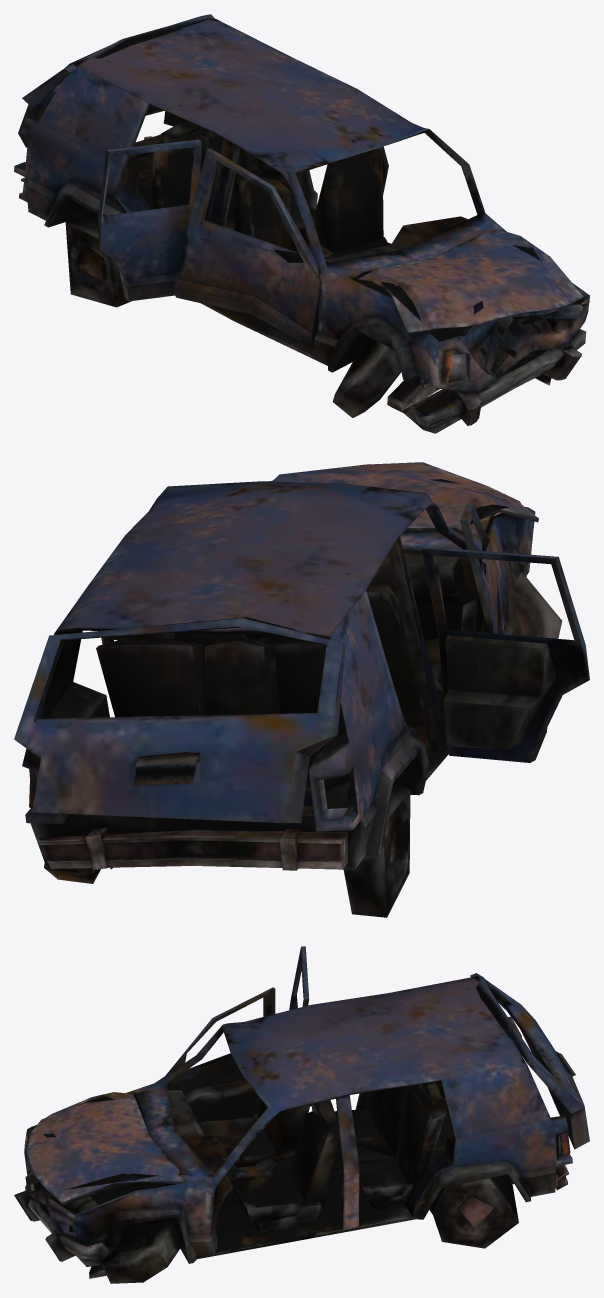
Rendered from crashed-car.lod0.glb.
The picture shows the model from 3 angles, top to bottom: view 1: azimuth 30°, elevation 25°; view 2: azimuth 150°, elevation 25°; view 3: azimuth 270°, elevation 25°; orthographic projection. The views are drawn at different scales.
Parts seen in each view (by area): view 1: Object_4; view 2: Object_4; view 3: Object_4.
Boxes of the visible parts, x1,y1,x2,y2 form: Object_4: (14, 14, 589, 433); Object_4: (14, 462, 589, 917); Object_4: (14, 946, 589, 1283).
Bounding box in the file's own units: 3.22 × 1.84 × 4.8.
Materials: 1 (1 with a texture image).
